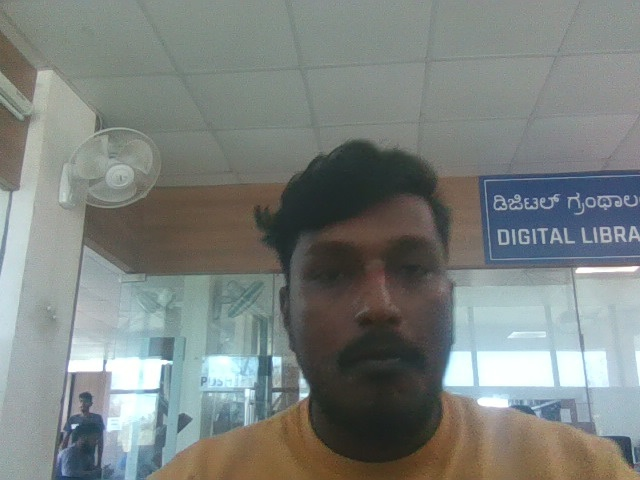real: (261, 123, 483, 437)
